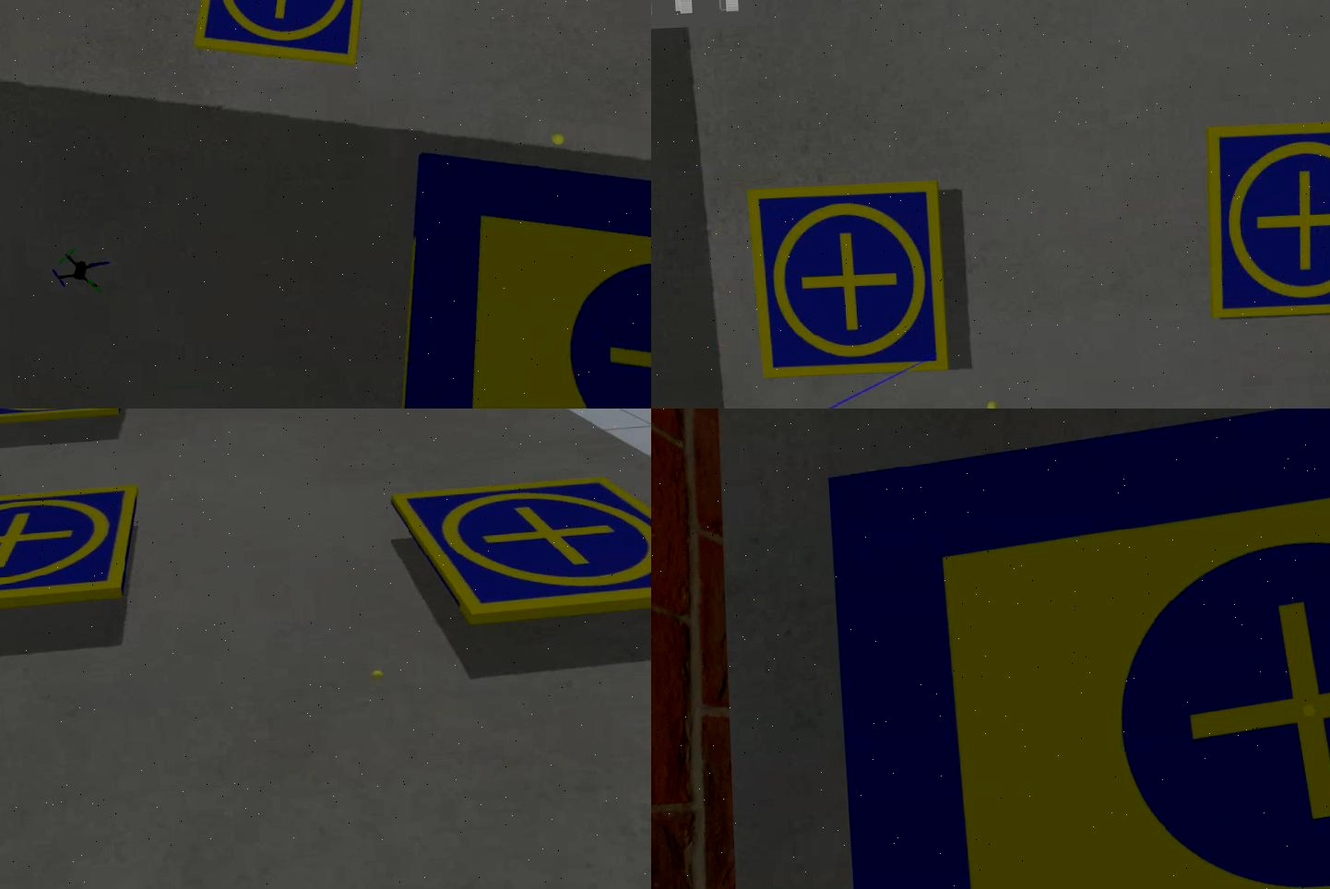large_base: (818, 409, 1330, 889), (373, 123, 652, 409)
small_base: (742, 175, 956, 385), (388, 465, 652, 634), (1199, 113, 1330, 326), (1, 487, 151, 617), (186, 1, 381, 82), (1, 409, 136, 432)
